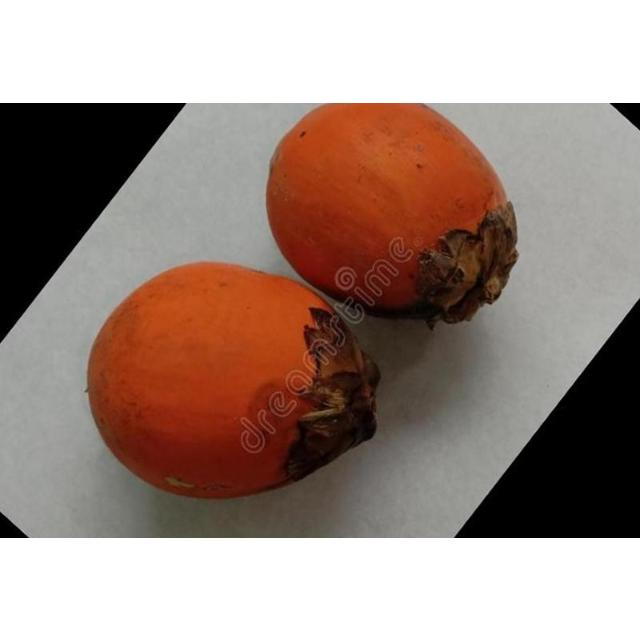good: (86, 260, 381, 500), (264, 102, 518, 324)
